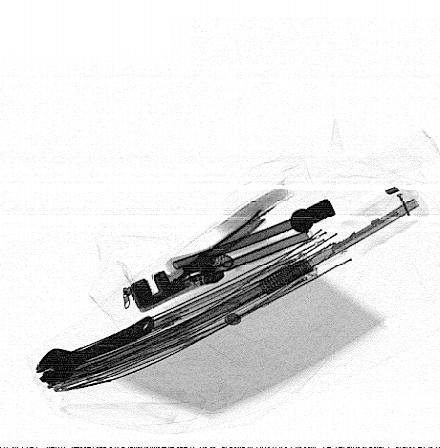Hammer: (173, 199, 339, 275)
Pliers: (125, 204, 320, 313)
Wrench: (31, 317, 156, 383)
